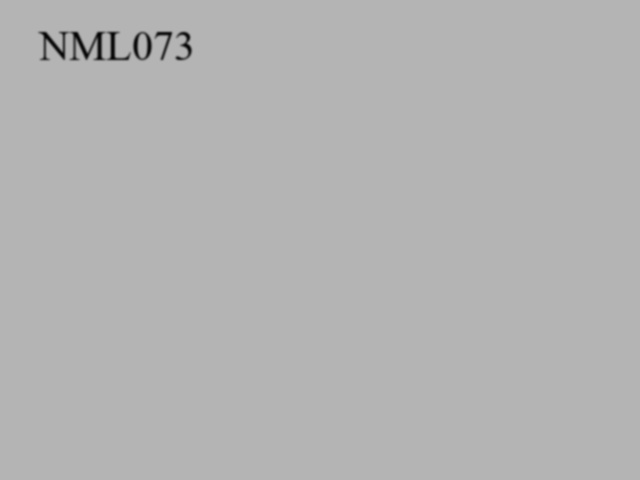OCR_AREA: (34, 28, 199, 64)
